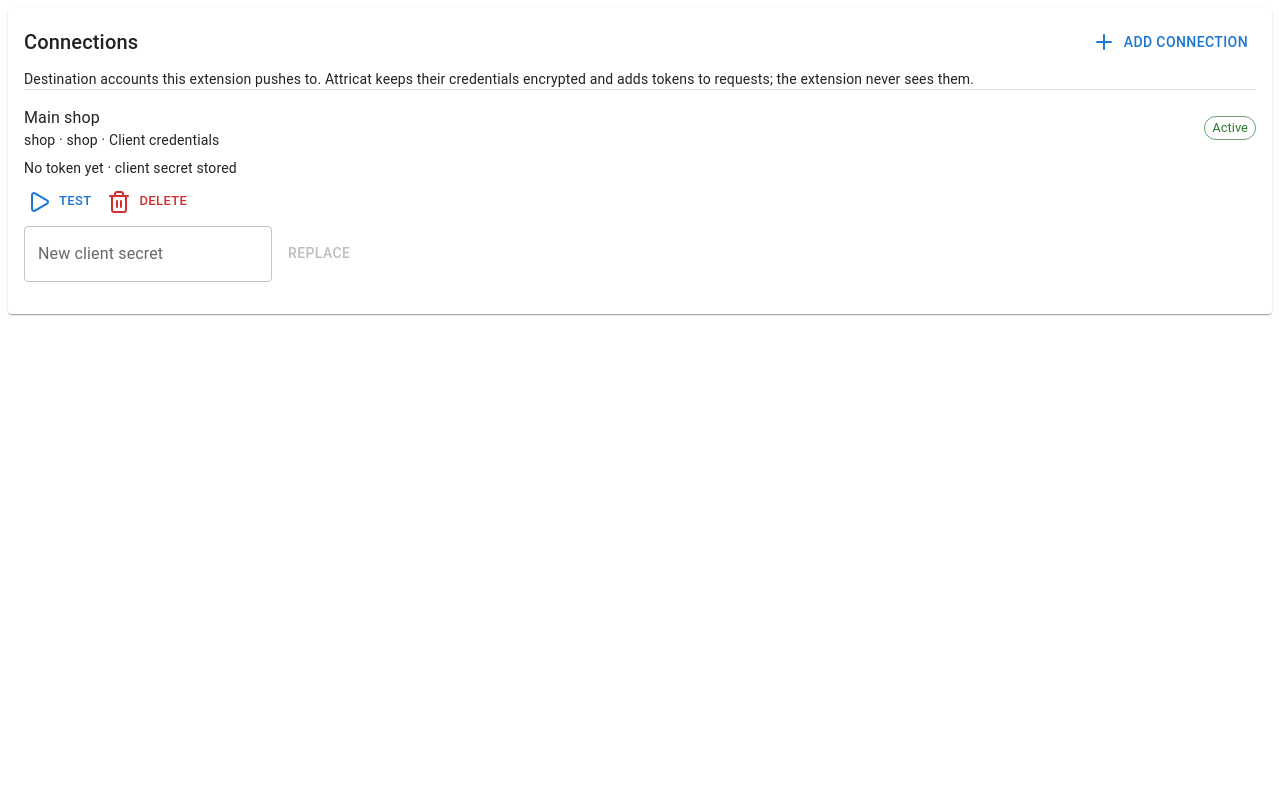
ExtensionConnectionsSection › asks before deleting a connection
Click the button "Delete".
click(148, 202)  # box [104,186,192,218]
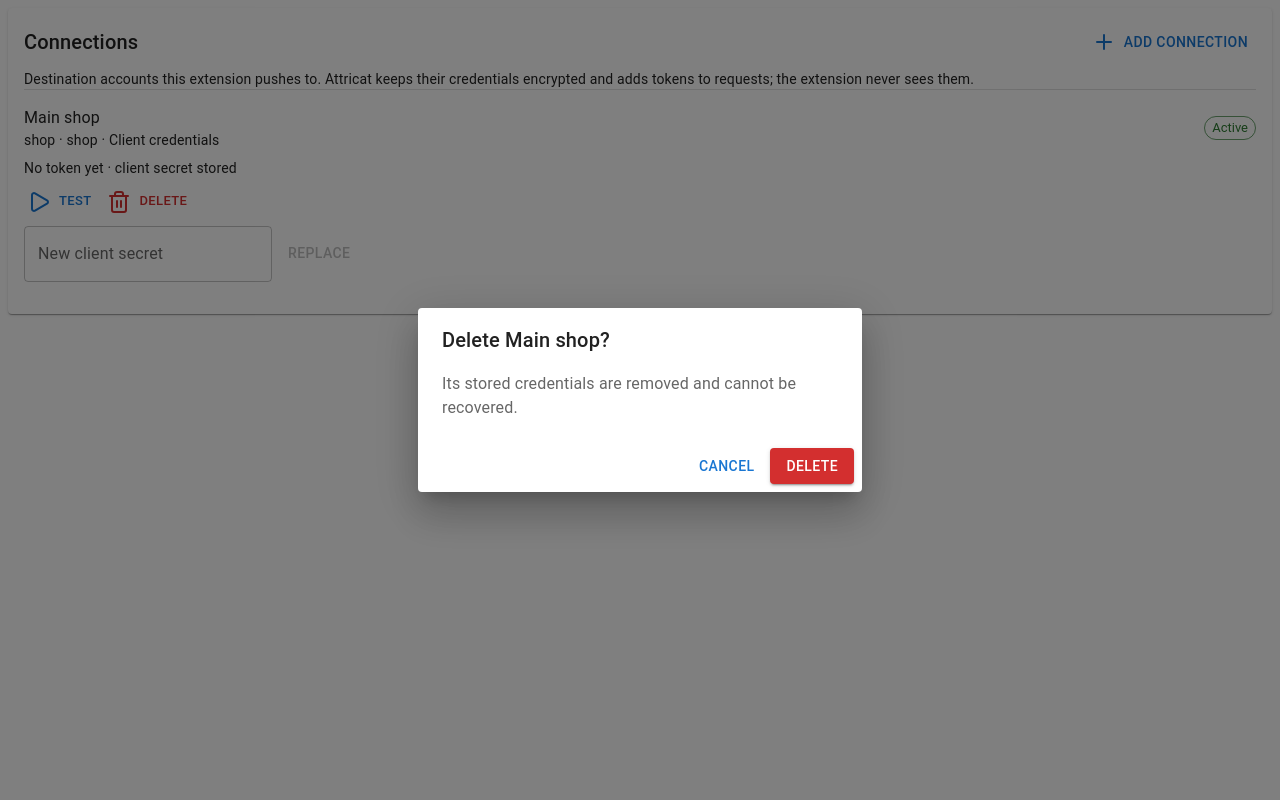
Click the button "Delete".
click(812, 466)  # box [770,448,854,484]
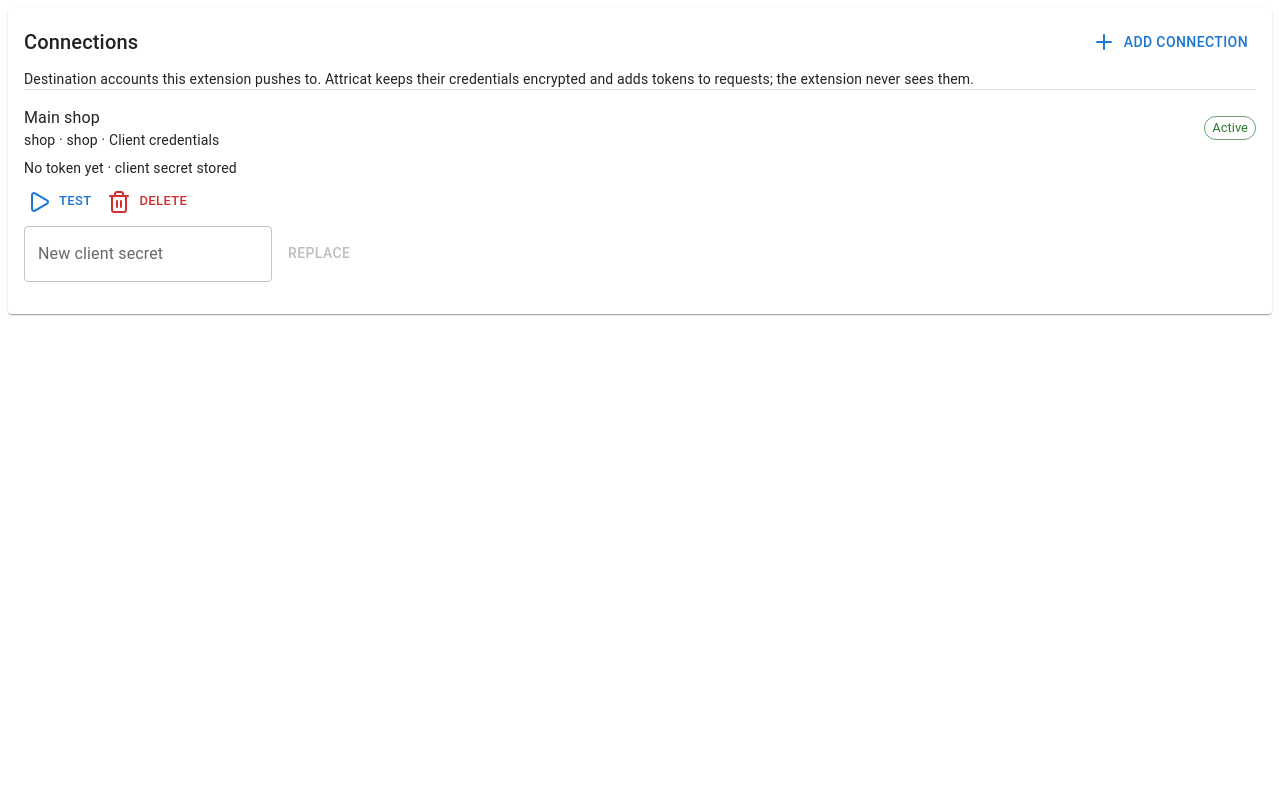
Result: the dialog is gone
